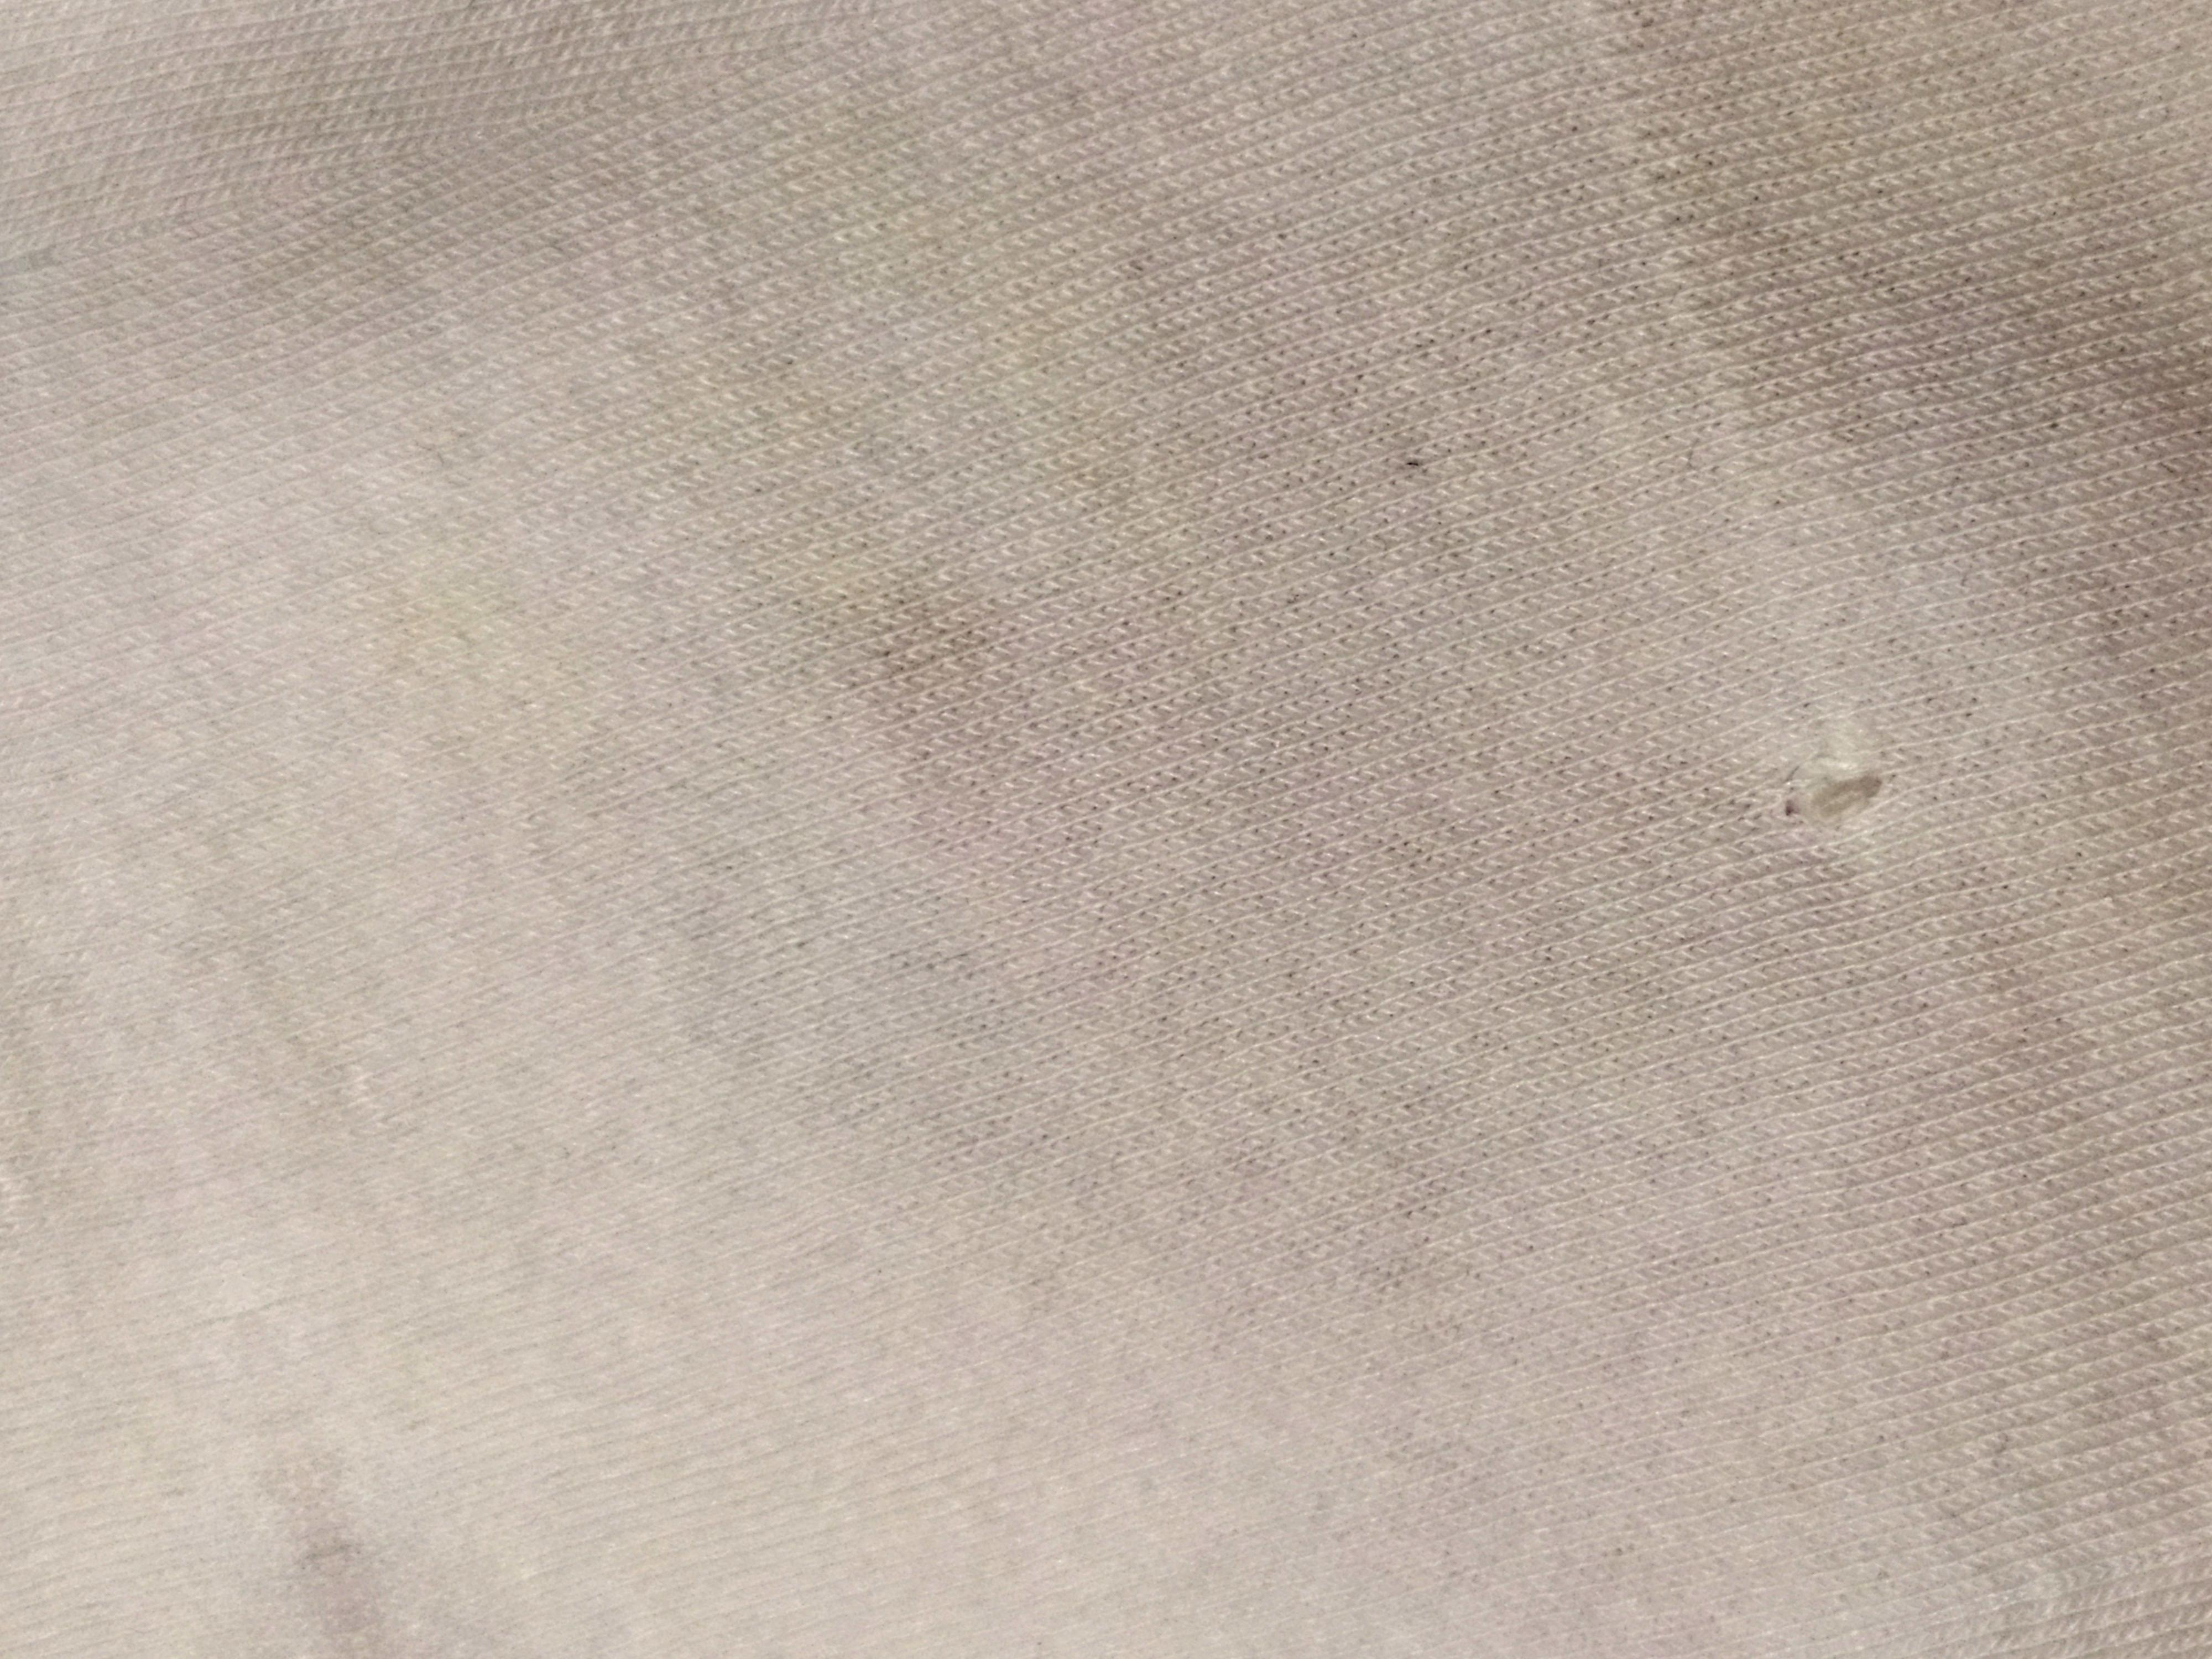knot: (1750, 739, 1940, 859)
